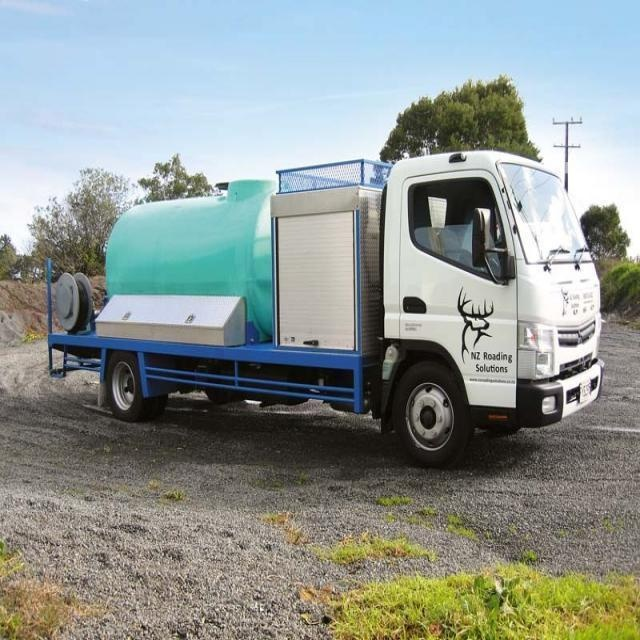Truck: (43, 146, 602, 462)
